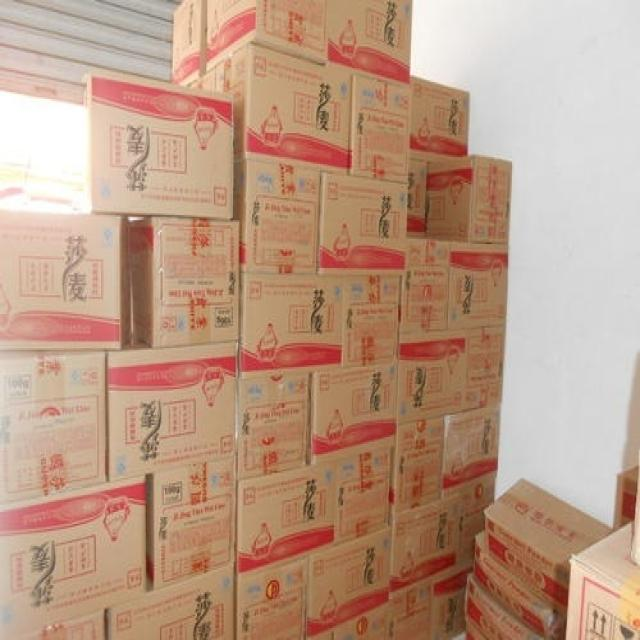box: (170, 38, 353, 174), (0, 479, 147, 638), (0, 180, 134, 350), (107, 331, 241, 490), (90, 77, 233, 219), (486, 481, 614, 618), (0, 350, 107, 512), (132, 215, 240, 346), (147, 452, 238, 594), (235, 459, 334, 576), (240, 269, 344, 373), (232, 157, 321, 273), (474, 530, 567, 638), (105, 564, 235, 638), (305, 528, 390, 638), (311, 363, 399, 465), (320, 170, 407, 270), (566, 521, 639, 638), (237, 368, 312, 477), (389, 487, 464, 596), (207, 0, 328, 64), (426, 154, 513, 242), (328, 0, 413, 83), (351, 67, 410, 181), (399, 329, 468, 424), (234, 555, 309, 638), (333, 442, 391, 547), (341, 267, 400, 366), (447, 239, 509, 330), (440, 406, 502, 497), (389, 416, 444, 516), (408, 77, 470, 162), (467, 577, 547, 638), (457, 471, 497, 567), (464, 325, 506, 412), (400, 263, 449, 334), (431, 559, 475, 638), (170, 1, 209, 86), (305, 602, 389, 638), (20, 608, 106, 638), (389, 577, 431, 638), (406, 157, 428, 238), (405, 234, 452, 266)
